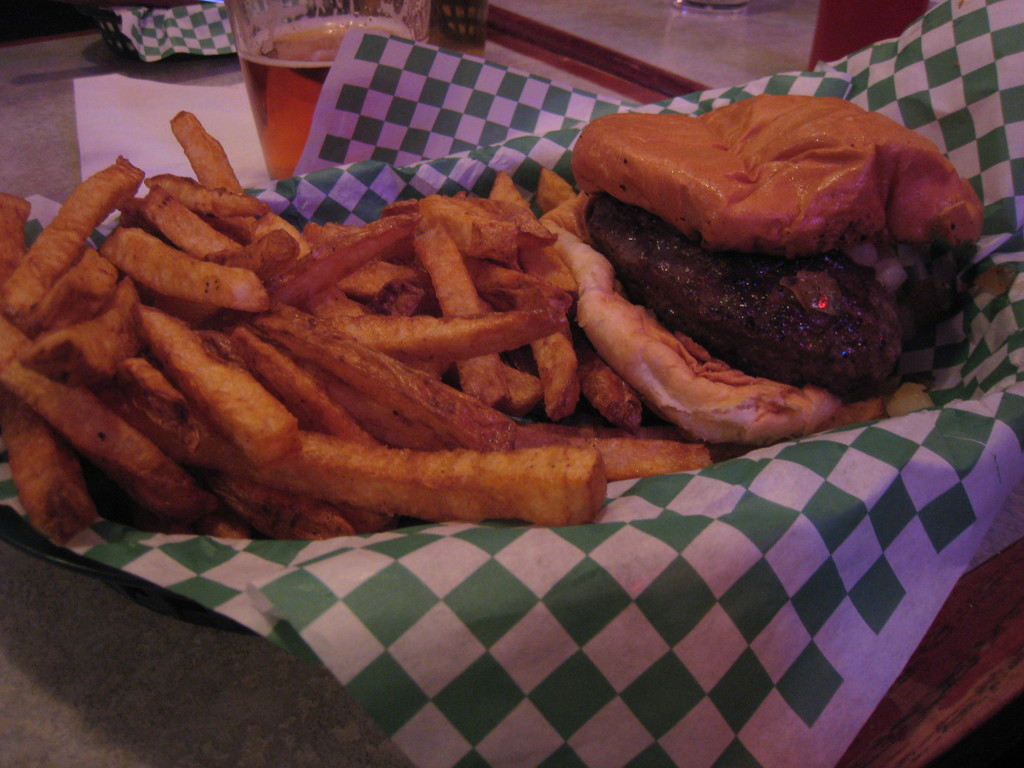French fries: (0, 149, 678, 554)
